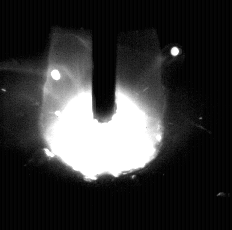arame: (93, 0, 117, 123)
poca: (38, 0, 165, 230)
